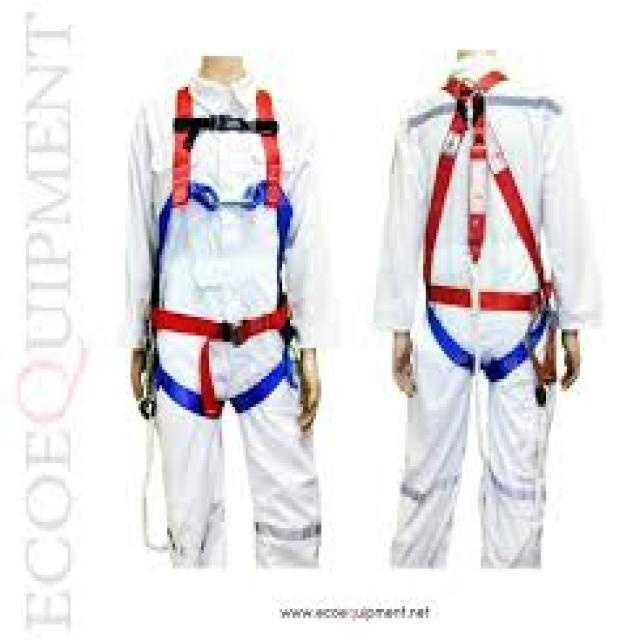Arnes_seguridad: (139, 76, 302, 419), (420, 71, 564, 392)
